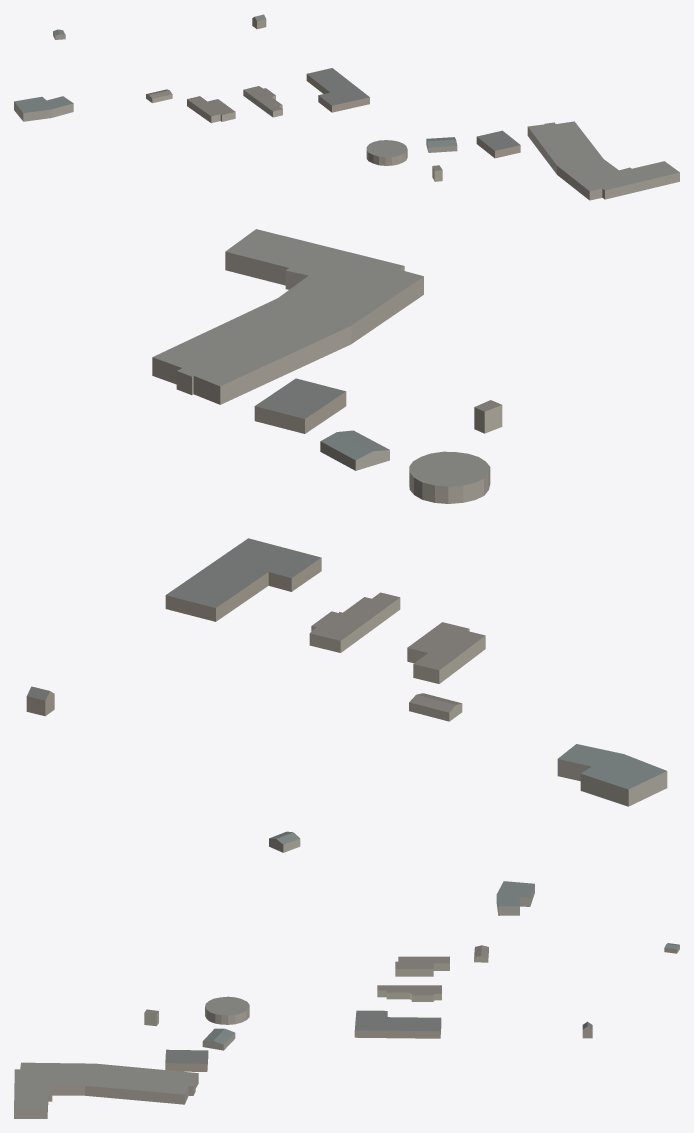
Rendered from fd6c2836487c-chunk-1196_11847.glb.
3 renders of one model, top to bottom at view 1: azimuth 30°, elevation 25°; view 2: azimuth 150°, elevation 25°; view 3: azimuth 270°, elevation 25°, orthographic. The views are drawn at different scales.
Visible parts, largest first — view 1: building_120200, building_102420, building_149633, building_25328, building_40088, building_112211, building_88532, building_48149; view 2: building_120200, building_102420, building_149633, building_25328, building_112211, building_40088, building_88532, building_48149, building_170184; view 3: building_120200, building_102420, building_25328, building_149633, building_40088, building_88532, building_112211, building_48149.
Part boxes in pixels (x1=…): building_120200: x1=527, y1=121, x2=679, y2=200; building_102420: x1=306, y1=68, x2=369, y2=112; building_149633: x1=14, y1=96, x2=73, y2=121; building_25328: x1=366, y1=140, x2=407, y2=165; building_40088: x1=187, y1=96, x2=235, y2=123; building_112211: x1=476, y1=130, x2=520, y2=158; building_88532: x1=243, y1=86, x2=282, y2=117; building_48149: x1=426, y1=137, x2=457, y2=152; building_120200: x1=152, y1=229, x2=423, y2=404; building_102420: x1=165, y1=538, x2=321, y2=621; building_149633: x1=557, y1=744, x2=667, y2=806; building_25328: x1=409, y1=451, x2=490, y2=503; building_112211: x1=254, y1=378, x2=346, y2=433; building_40088: x1=407, y1=622, x2=485, y2=683; building_88532: x1=309, y1=592, x2=400, y2=652; building_48149: x1=320, y1=430, x2=389, y2=470; building_170184: x1=409, y1=693, x2=462, y2=721; building_120200: x1=14, y1=1062, x2=198, y2=1118; building_102420: x1=354, y1=1010, x2=441, y2=1038; building_25328: x1=205, y1=996, x2=249, y2=1024; building_149633: x1=496, y1=881, x2=534, y2=915; building_40088: x1=395, y1=956, x2=449, y2=976; building_88532: x1=377, y1=985, x2=441, y2=1001; building_112211: x1=165, y1=1049, x2=208, y2=1071; building_48149: x1=202, y1=1028, x2=235, y2=1050.
Size of the model in its own units: 312 by 7.6 by 384.
